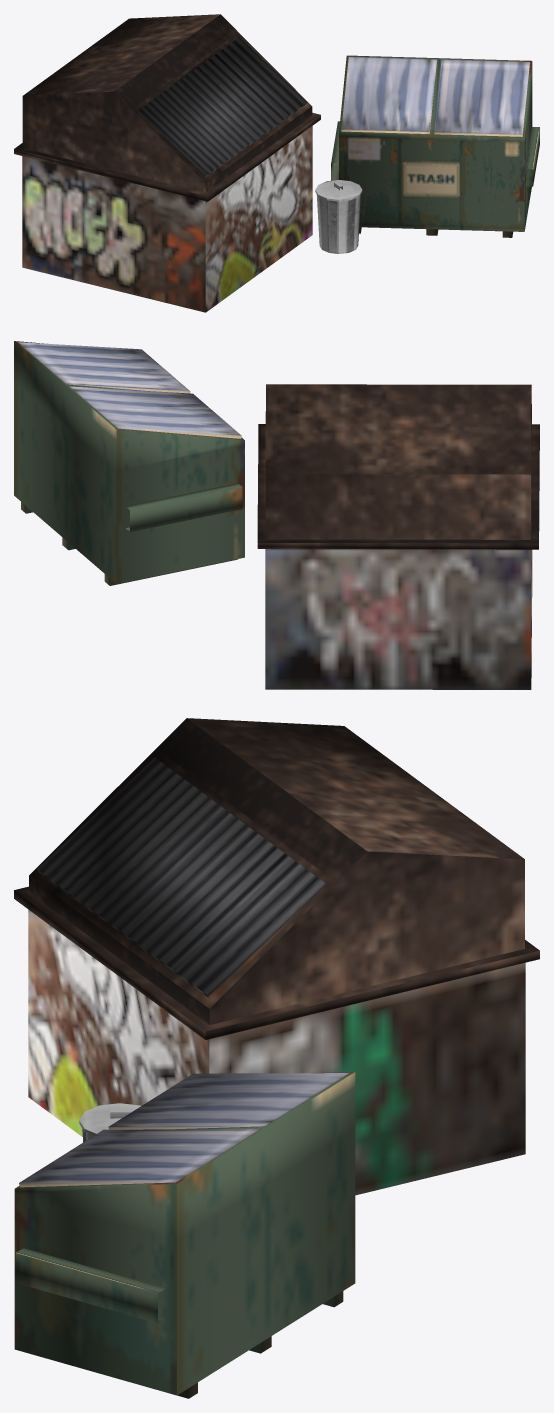
Rendered from psx_style_dumpster_set.glb.
The picture shows the model from 3 angles, top to bottom: view 1: azimuth 30°, elevation 25°; view 2: azimuth 150°, elevation 25°; view 3: azimuth 270°, elevation 25°; orthographic projection. The views are drawn at different scales.
Visible parts, largest first — view 1: Dumpster 1, Dumpster 2, Garbage Bin; view 2: Dumpster 1, Dumpster 2; view 3: Dumpster 1, Dumpster 2, Garbage Bin.
Boxes of the visible parts, left/top/right/bottom form: Dumpster 1: left=14, top=14, right=320, bottom=312; Dumpster 2: left=331, top=55, right=539, bottom=237; Garbage Bin: left=315, top=180, right=362, bottom=253; Dumpster 1: left=257, top=384, right=539, bottom=689; Dumpster 2: left=14, top=341, right=244, bottom=585; Dumpster 1: left=14, top=718, right=539, bottom=1195; Dumpster 2: left=14, top=1072, right=355, bottom=1398; Garbage Bin: left=79, top=1103, right=140, bottom=1142.
Size of the model in its own units: 5.84 by 2.35 by 3.29.
4 materials, 4 textured.
